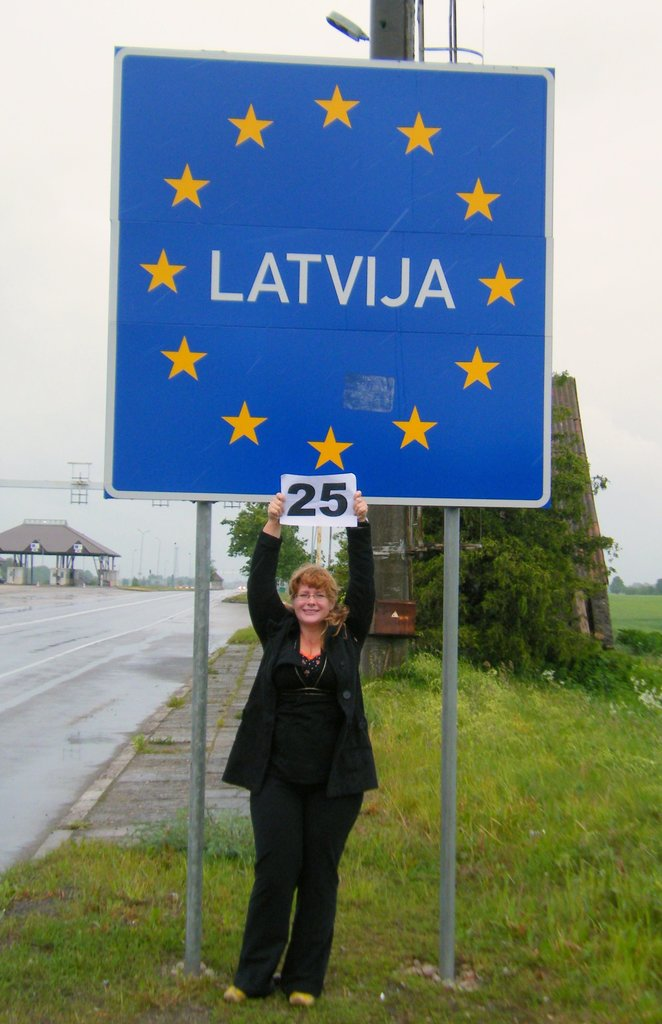Human-face: (296, 574, 331, 628)
